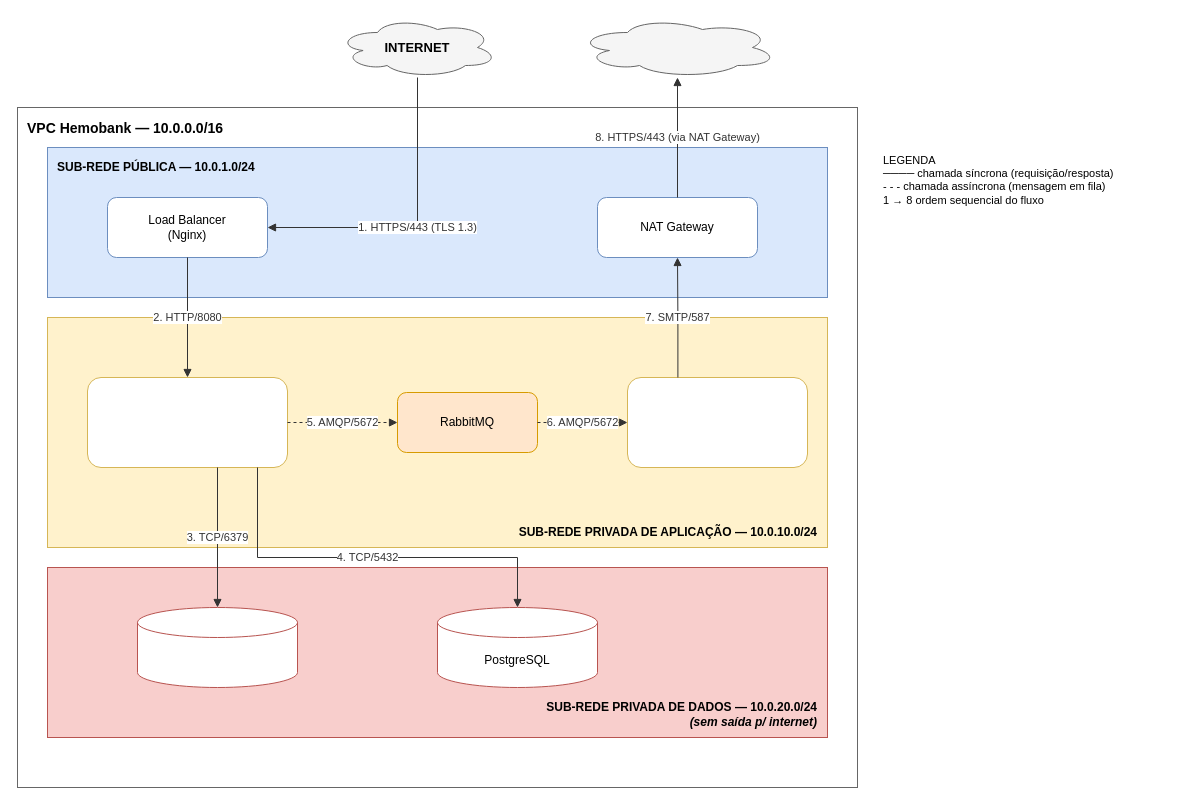
This 1195x805 diagram has some shape labels left out. Each missing label, with the centre of its shape:
"API Backend (Spring Boot) expõe /api/v1" belongs at (187,422).
"Redis" belongs at (217,647).
"Servidor de e-mail (externo)" belongs at (677,47).
"Worker Notifica" belongs at (717,422).
